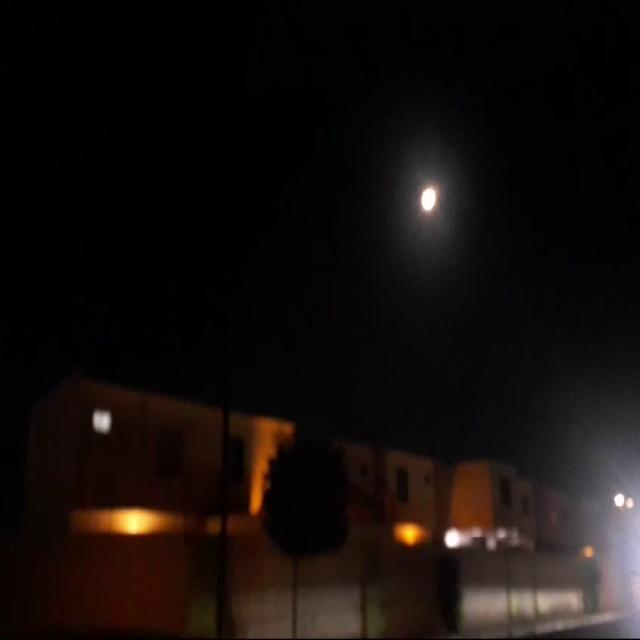moon: (417, 188, 436, 222)
